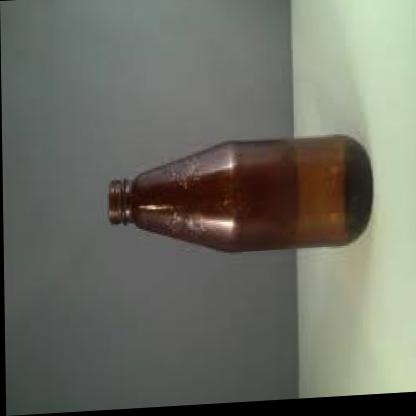trash: (108, 135, 372, 250)
